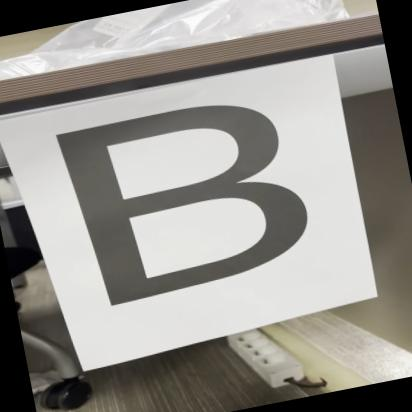seat: (35, 80, 325, 330)
